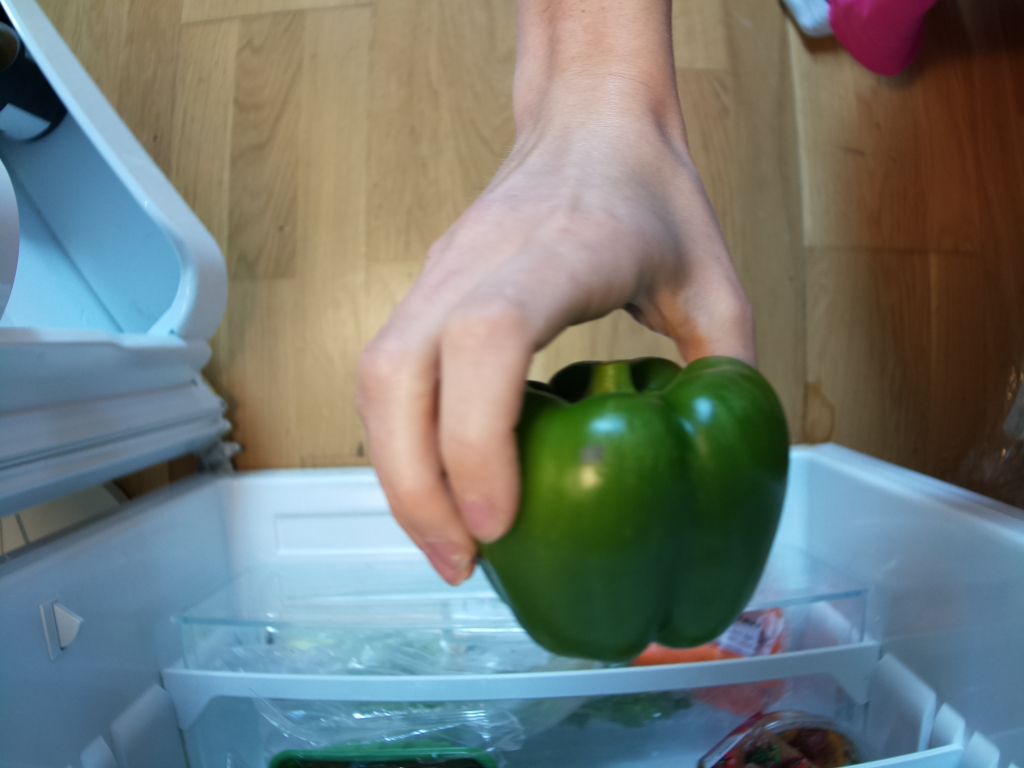pepper: (463, 354, 796, 664)
